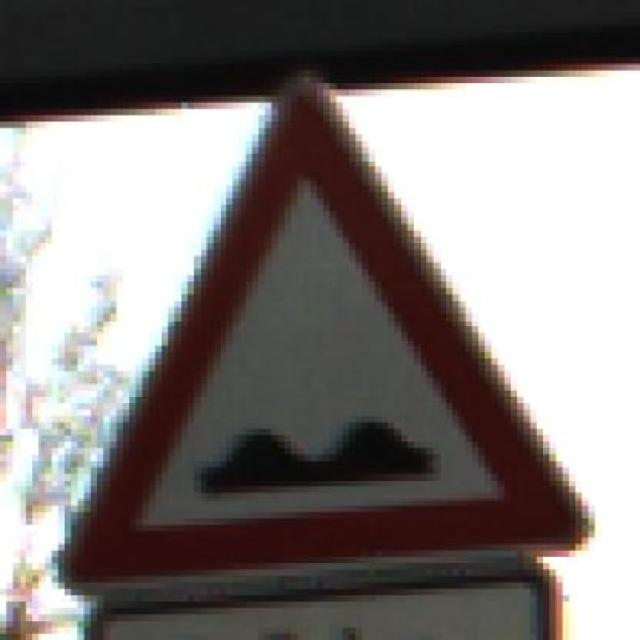Uneven Road: (46, 76, 594, 582)
